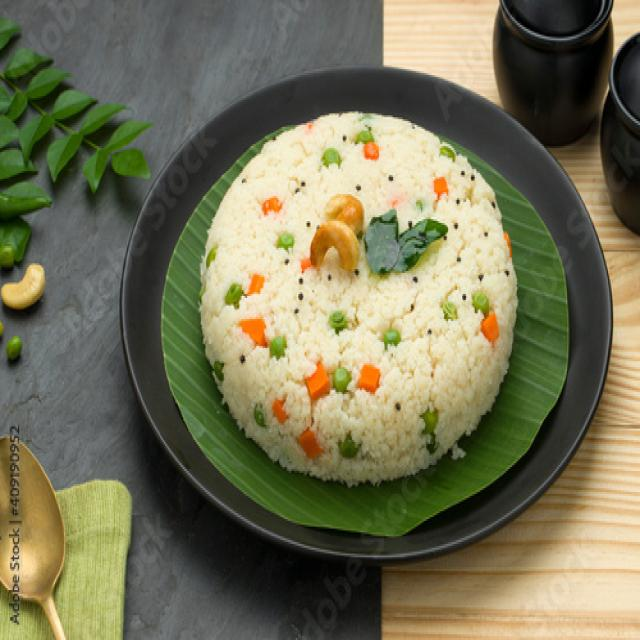UPMA: (200, 115, 516, 479)
